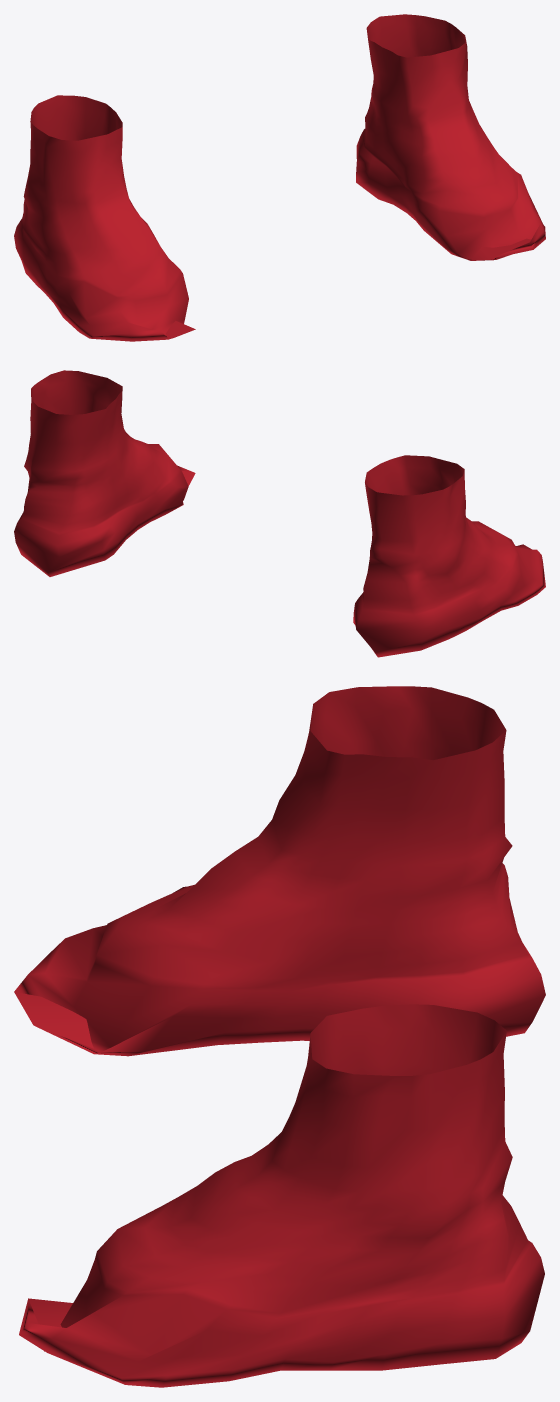
The model's file is high_tops.glb.
The picture shows the model from 3 angles, top to bottom: view 1: azimuth 30°, elevation 25°; view 2: azimuth 150°, elevation 25°; view 3: azimuth 270°, elevation 25°; orthographic projection. The views are drawn at different scales.
Visible parts, largest first — view 1: high_tops; view 2: high_tops; view 3: high_tops.
Boxes of the visible parts, x1=… form: high_tops: x1=14, y1=14, x2=545, y2=341; high_tops: x1=14, y1=370, x2=545, y2=657; high_tops: x1=14, y1=686, x2=545, y2=1387.
Size of the model in its own units: 0.5512 by 0.1855 by 0.2886.
